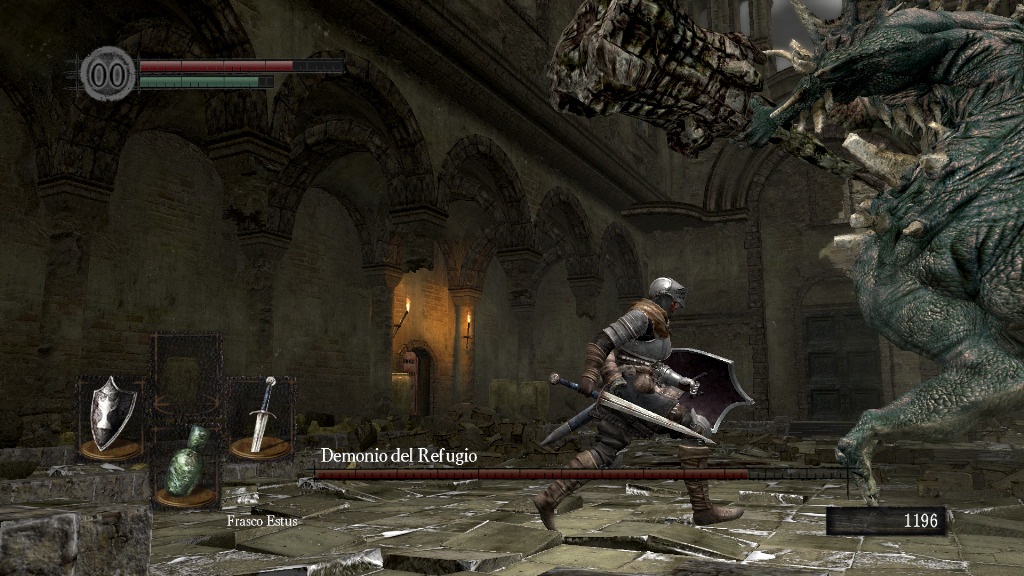asylumDemon: (540, 2, 1024, 496)
bossHP: (314, 469, 847, 479)
health: (138, 58, 343, 71)
humanity: (80, 45, 136, 102)
player: (530, 276, 757, 529)
souls: (825, 506, 945, 536)
stamina: (138, 74, 274, 88)
